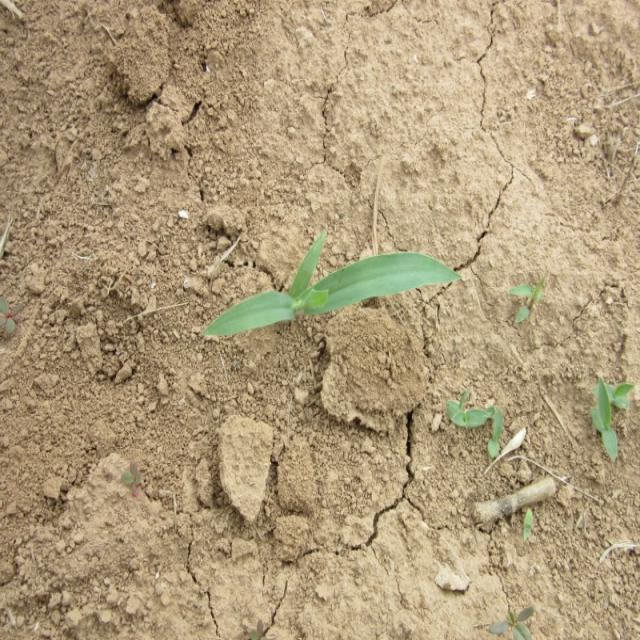bg: (205, 239, 462, 347)
